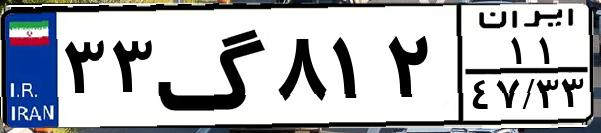1: (330, 28, 385, 110), (537, 27, 568, 80), (508, 27, 537, 80)
2: (385, 28, 445, 110)
3: (57, 26, 110, 100), (110, 28, 156, 98), (560, 70, 590, 125), (535, 70, 560, 125)
4: (470, 70, 495, 125)
7: (495, 70, 520, 125)
8: (270, 28, 330, 110)
گ: (156, 12, 270, 120)
